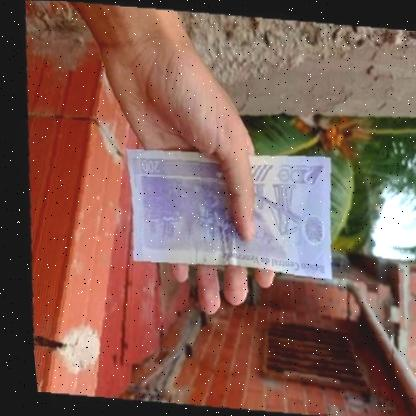two_hundred-back-vef: (117, 146, 336, 279)
